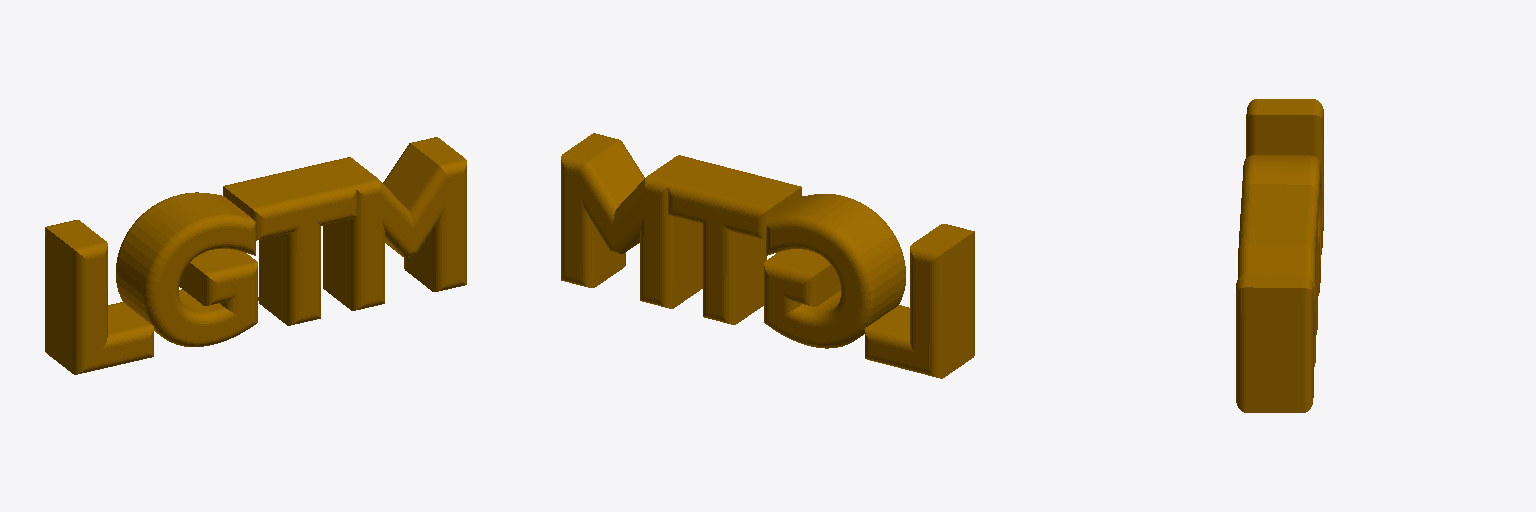
The model's file is goldLGTM.obj.
The picture shows the model from 3 angles: view 1: azimuth 30°, elevation 25°; view 2: azimuth 150°, elevation 25°; view 3: azimuth 270°, elevation 25°; orthographic projection.
Visible parts, largest first — view 1: Text; view 2: Text; view 3: Text.
Part boxes in pixels (x1,y1,x2,y2): Text: (45, 137, 466, 374); Text: (561, 133, 974, 378); Text: (1236, 99, 1323, 412).
Bounding box in the file's own units: 9.03 × 2.85 × 1.78.